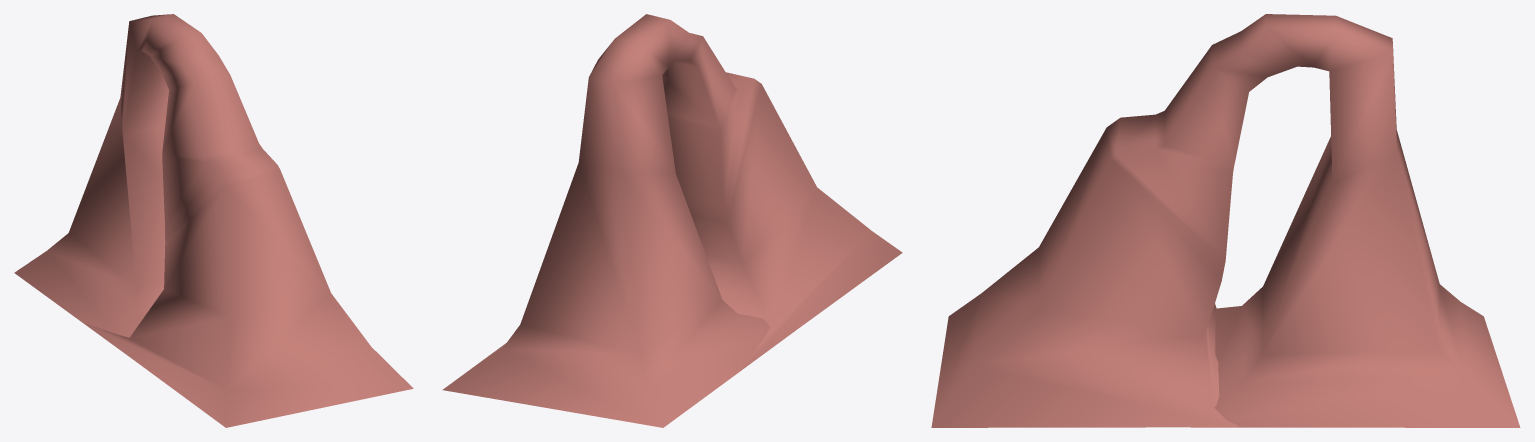
File: mdl_rock_arc.fbx
3 renders of one model, left to right at view 1: azimuth 30°, elevation 25°; view 2: azimuth 150°, elevation 25°; view 3: azimuth 270°, elevation 25°, orthographic. The views are drawn at different scales.
Visible parts, largest first — view 1: Rock_Structure; view 2: Rock_Structure; view 3: Rock_Structure.
Part boxes in pixels (<box>): Rock_Structure: <box>14,14,413,427</box>; Rock_Structure: <box>443,14,902,427</box>; Rock_Structure: <box>931,14,1520,427</box>.
Bounding box in the file's own units: 810 × 1190 × 1806.
